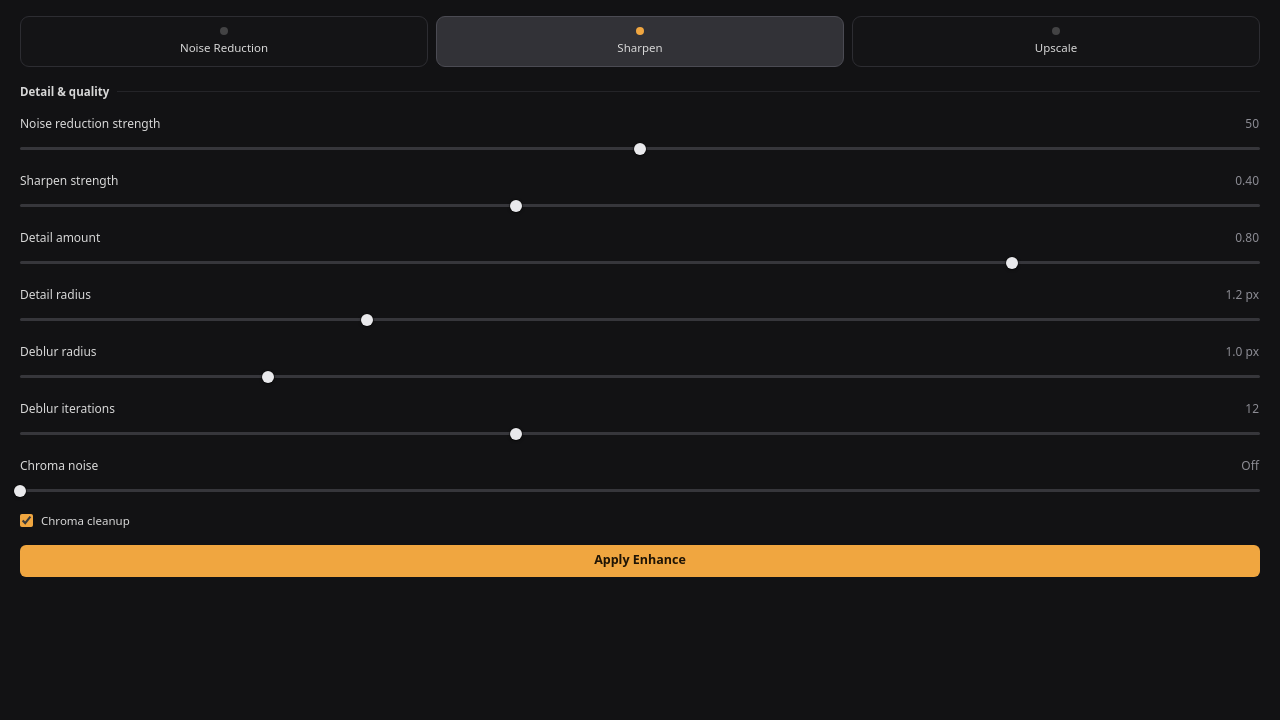
Scenario: EnhanceModuleComponent › renders a "Standard" badge when the store upscaleMode is "standard"
Click the button "Upscale": [1056, 42] box [852,16,1260,67]
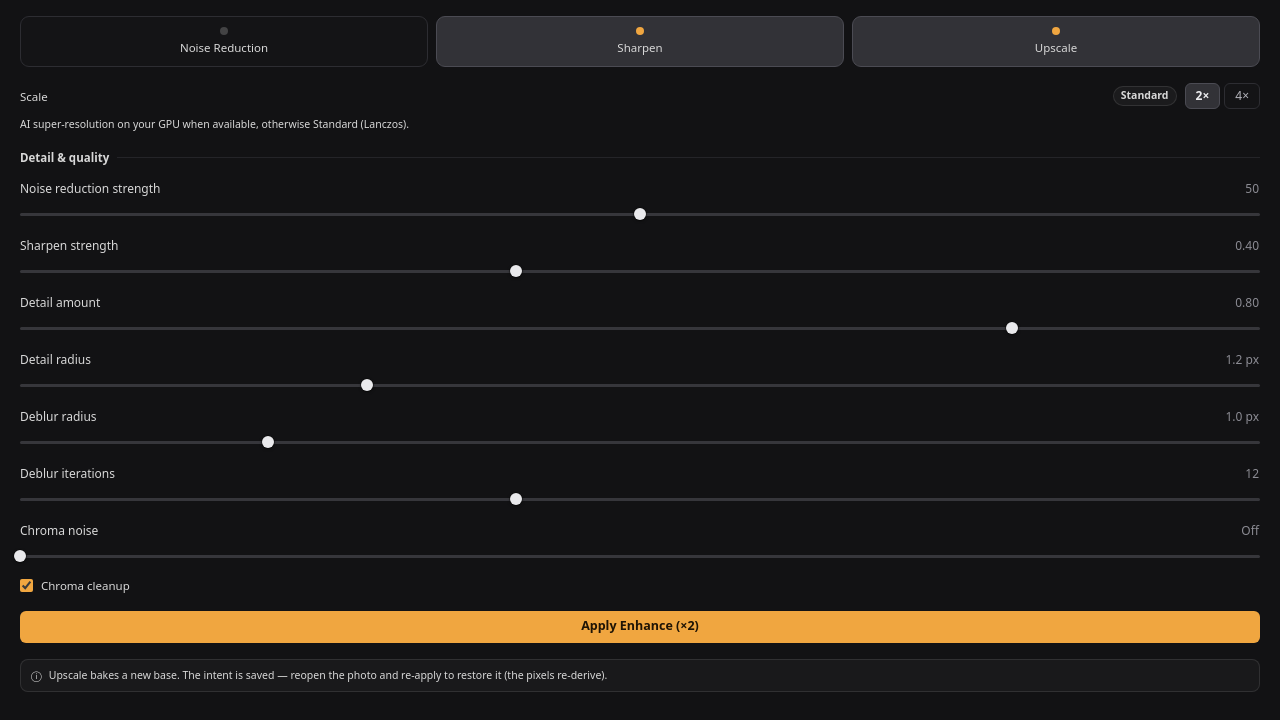
Result: the text with test id "upscale-mode-badge" reads "Standard" at [1121,88,1168,102]
